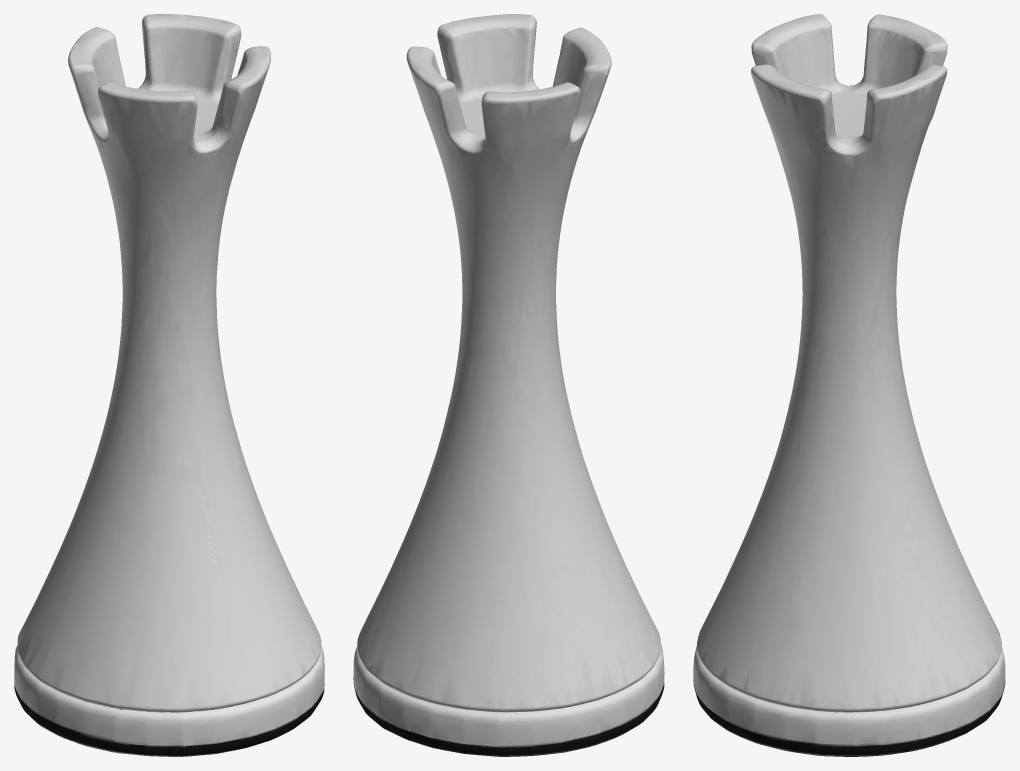
Rendered from bishop-white-hd.glb.
3 views of the same model, side by side, from view 1: azimuth 30°, elevation 25°; view 2: azimuth 150°, elevation 25°; view 3: azimuth 270°, elevation 25° (orthographic).
Bounding box in the file's own units: 0.5834 × 1.32 × 0.583.
1 material, 1 textured.
